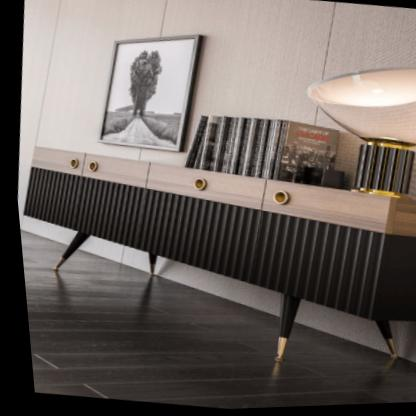Sideboard: (19, 147, 416, 365)
